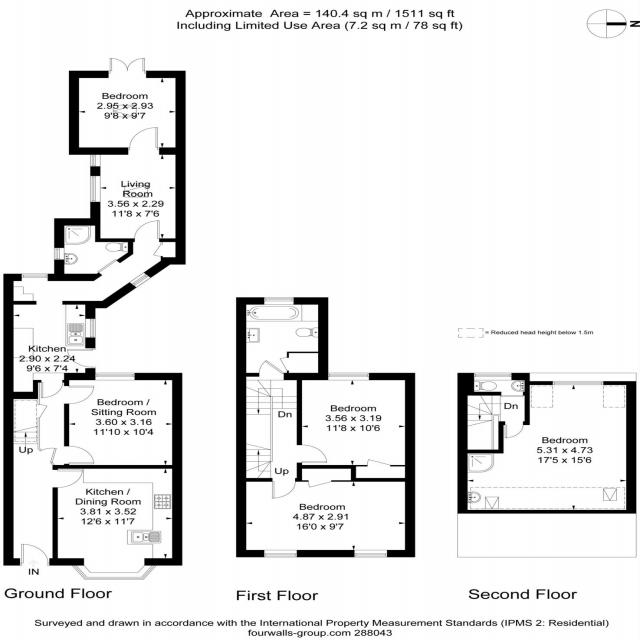DOOR: (126, 126, 160, 156), (18, 542, 51, 567), (62, 445, 97, 466), (63, 384, 96, 406), (51, 469, 85, 490), (133, 219, 161, 244), (296, 444, 329, 464), (65, 349, 97, 368), (271, 477, 297, 500), (39, 379, 65, 400), (257, 358, 285, 377), (504, 420, 525, 439)
DOUBLE DOOR: (107, 57, 148, 75)
ROOM: (456, 380, 638, 514), (50, 464, 184, 581), (235, 478, 417, 558), (62, 371, 184, 469), (68, 57, 187, 156), (296, 372, 416, 469), (88, 126, 187, 243), (2, 300, 97, 400)
WINDOW: (84, 571, 144, 580), (128, 270, 154, 290), (327, 372, 371, 381), (94, 372, 136, 381), (89, 175, 102, 203), (263, 549, 298, 559), (353, 549, 389, 558), (551, 380, 605, 386), (71, 565, 91, 581), (263, 296, 295, 306), (137, 565, 157, 580), (84, 318, 97, 339), (53, 247, 67, 261), (473, 372, 512, 377), (89, 153, 102, 167), (20, 273, 50, 279)
